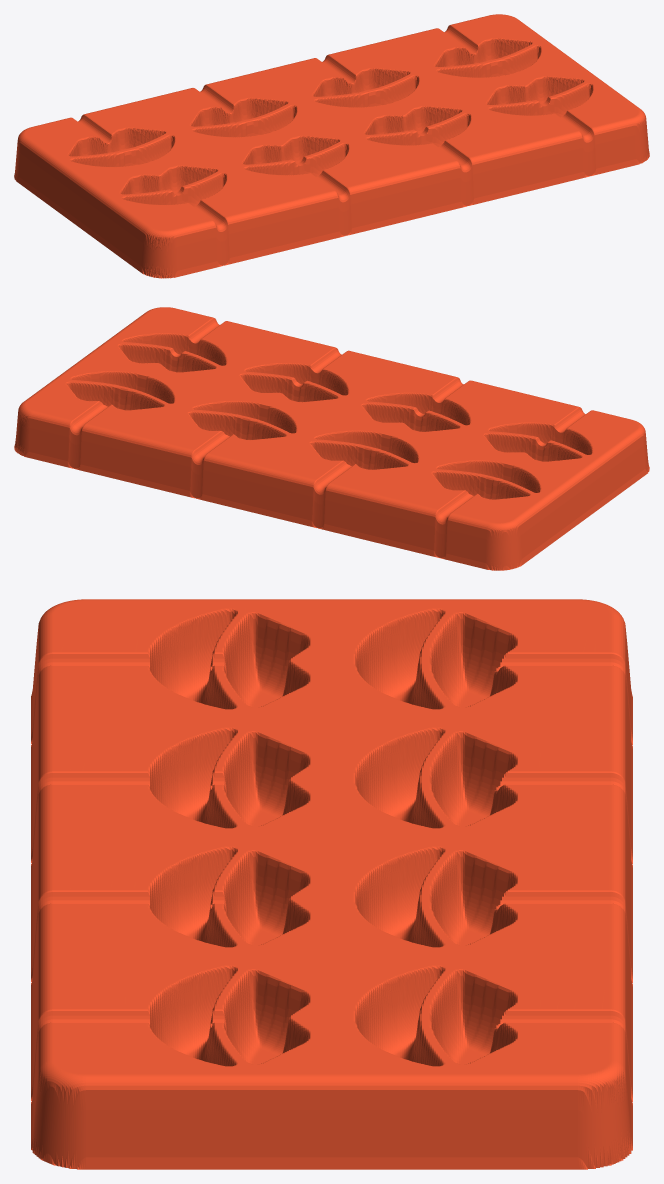
Rendered from mold.glb.
The picture shows the model from 3 angles, top to bottom: view 1: azimuth 30°, elevation 25°; view 2: azimuth 150°, elevation 25°; view 3: azimuth 270°, elevation 25°; orthographic projection. The views are drawn at different scales.
Parts seen in each view (by area): view 1: geometry_0; view 2: geometry_0; view 3: geometry_0.
Boxes of the visible parts, x1,y1,x2,y2 form: geometry_0: (14,14,649,278); geometry_0: (14,307,649,570); geometry_0: (31,599,632,1169).
Bounding box in the file's own units: 0.1907 × 0.0155 × 0.0986.
